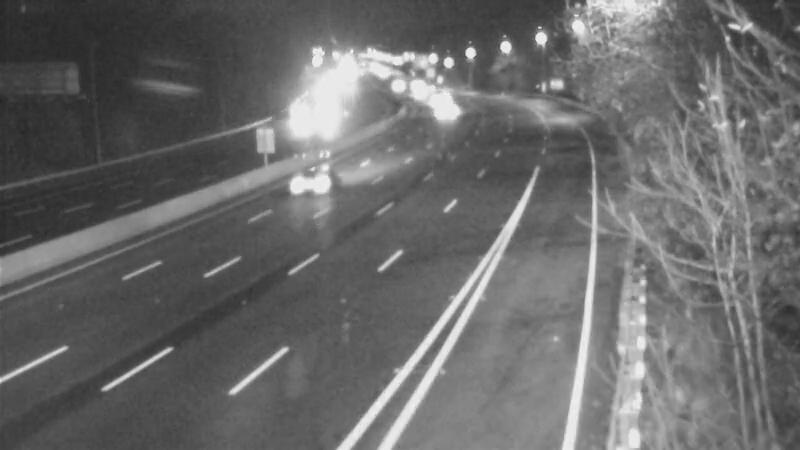vehicle: (268, 141, 348, 221), (372, 59, 422, 109), (395, 70, 445, 120), (413, 75, 463, 125), (420, 88, 470, 138), (277, 100, 327, 150)
